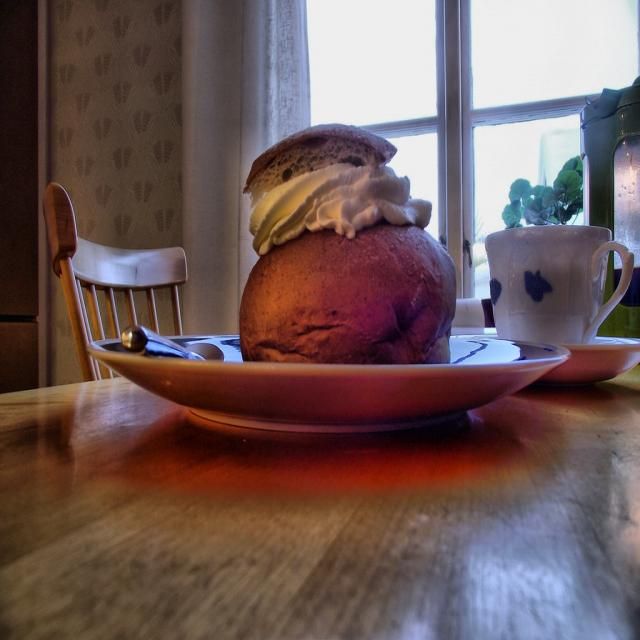non-organic waste: (96, 320, 575, 443)
